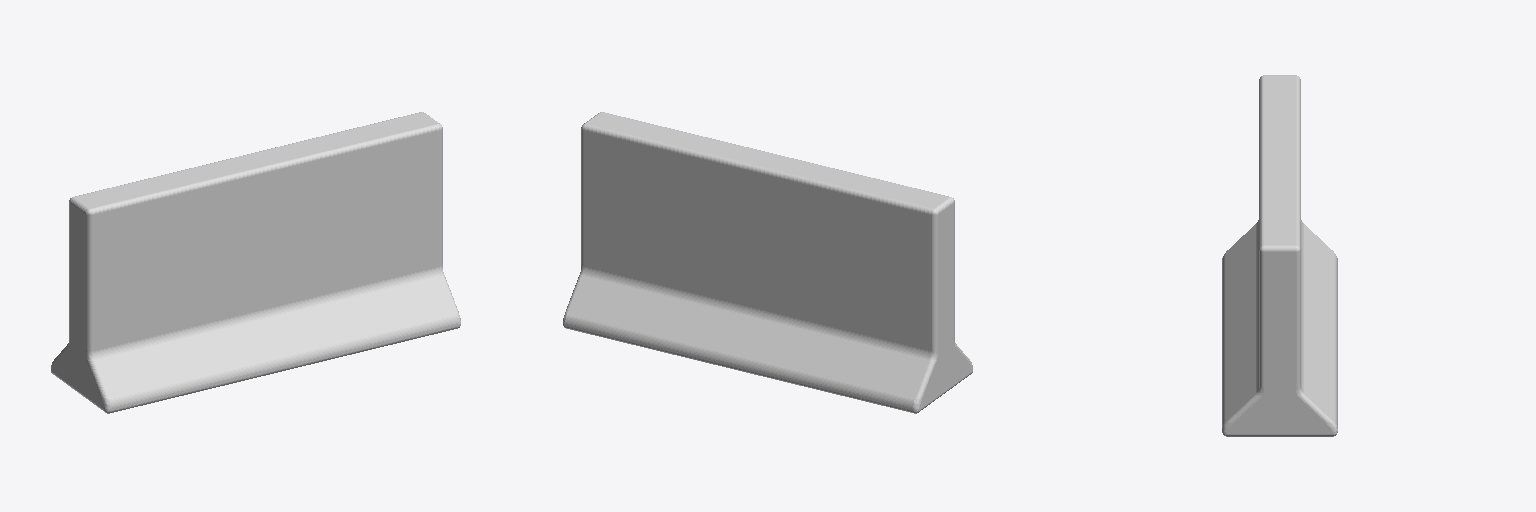
Rendered from Pregrados.obj.
3 views of the same model, side by side, from view 1: azimuth 30°, elevation 25°; view 2: azimuth 150°, elevation 25°; view 3: azimuth 270°, elevation 25° (orthographic).
Visible parts, largest first — view 1: Cube; view 2: Cube; view 3: Cube.
Part boxes in pixels (x1,y1,x2,y2): Cube: (51,112,460,413); Cube: (563,112,972,413); Cube: (1222,75,1337,436).
Size of the model in its own units: 6.25 by 3.2 by 1.75.